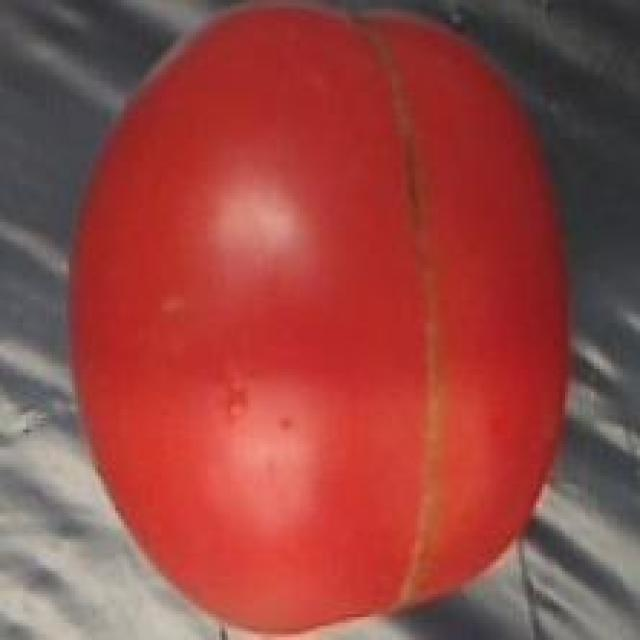overripe tomato: (52, 0, 585, 640)
